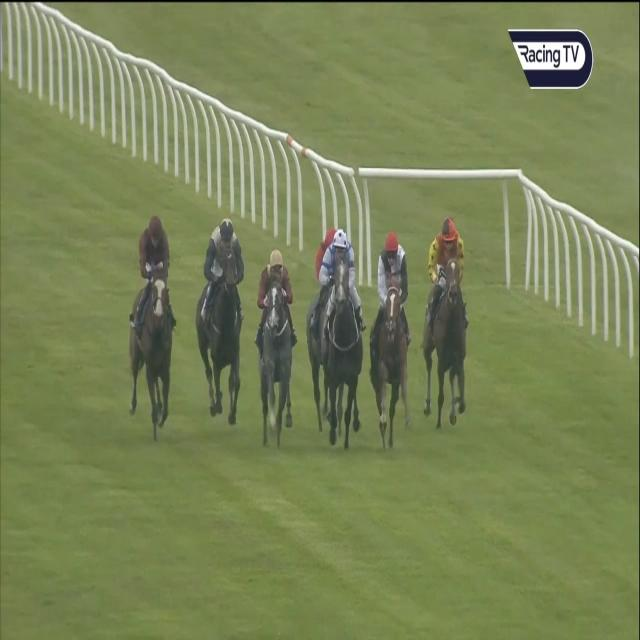horses-racing: (421, 217, 471, 427), (368, 223, 414, 446), (319, 225, 361, 468), (128, 216, 176, 428), (198, 213, 246, 420), (255, 245, 296, 444), (310, 220, 336, 298)
